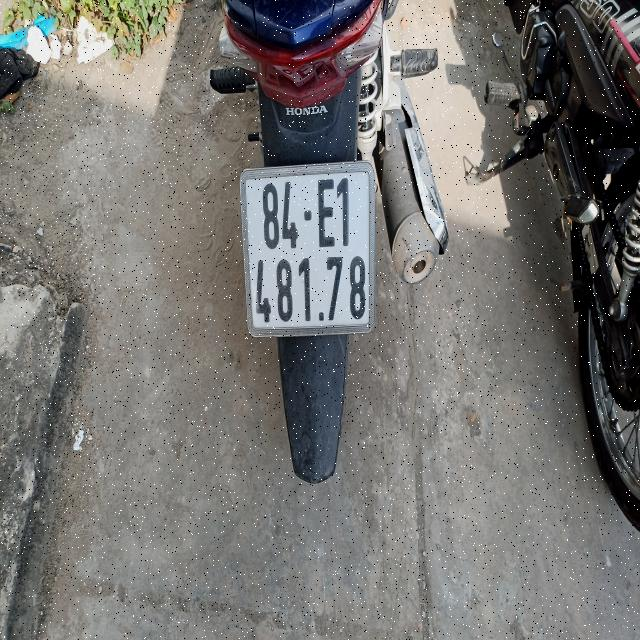1: (337, 177, 352, 248), (298, 258, 314, 321)
4: (254, 258, 272, 323), (282, 180, 298, 250)
7: (326, 254, 343, 322)
8: (261, 182, 280, 252), (276, 256, 294, 323), (350, 253, 367, 319)
E: (316, 178, 336, 248)
